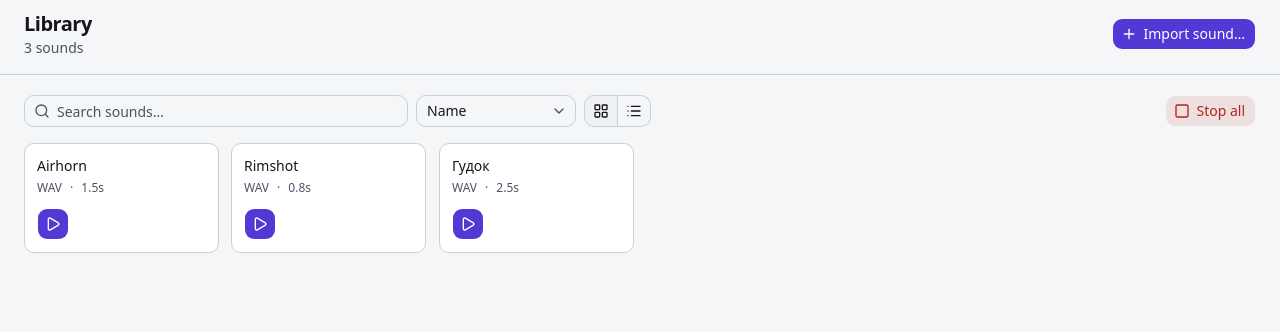
Test: library page › shows a typed playback error from the backend
This screenshot has width=1280, height=332.
Expected: the list named "Sounds in your library" is shown, [24, 143, 634, 253]
Click the button named "Play Airhorn": x=53, y=224 [37, 208, 69, 240]
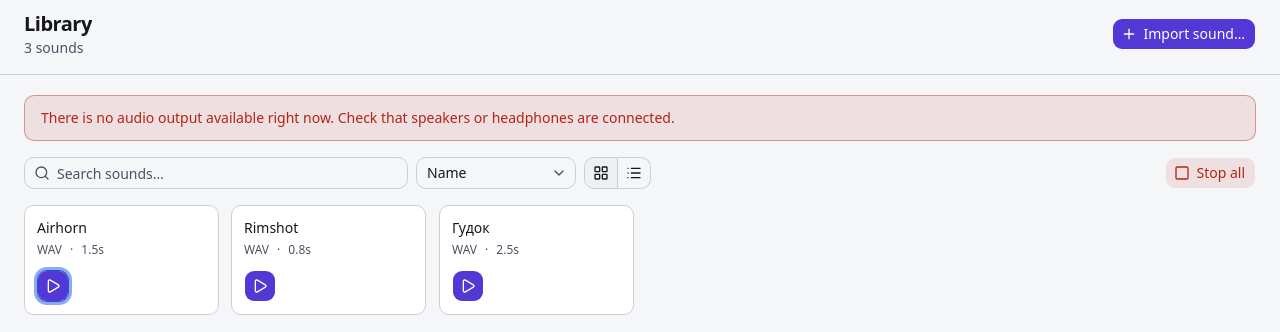
Result: the message shows "no audio output" at [41, 108, 675, 127]
